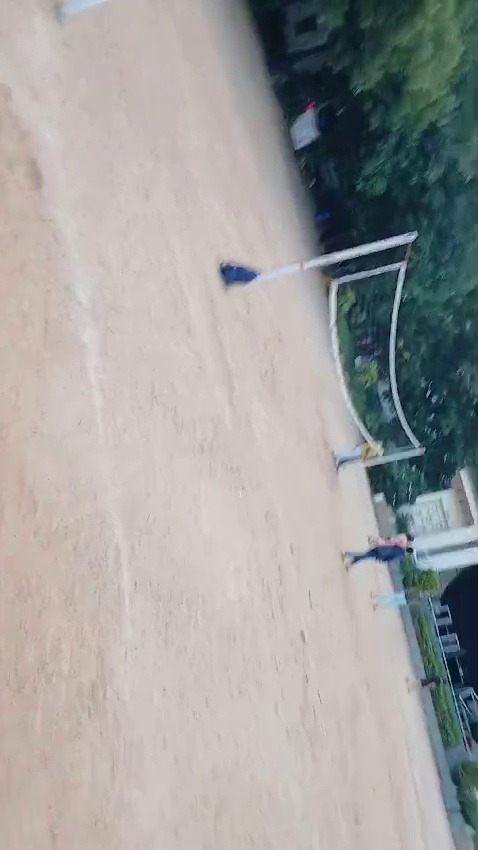bag: (210, 249, 266, 299)
